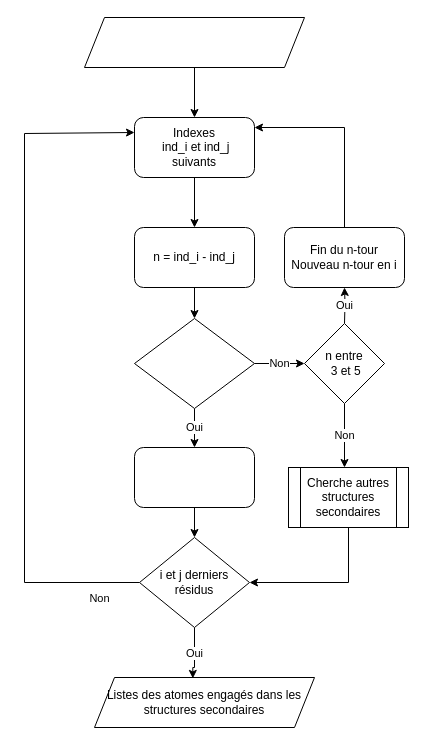
This 426x745 diagram has some shape labels left out. The box of each missing label's shape, as (x1, y1, x2, y2) in pixels:
Assigne j au n-tour [i, j]: (134, 446, 254, 508)
Liste des résidus (i, j) engagés dans les liaisons hydrogène: (84, 16, 304, 68)
n est le même qu'avant: (134, 318, 254, 408)
